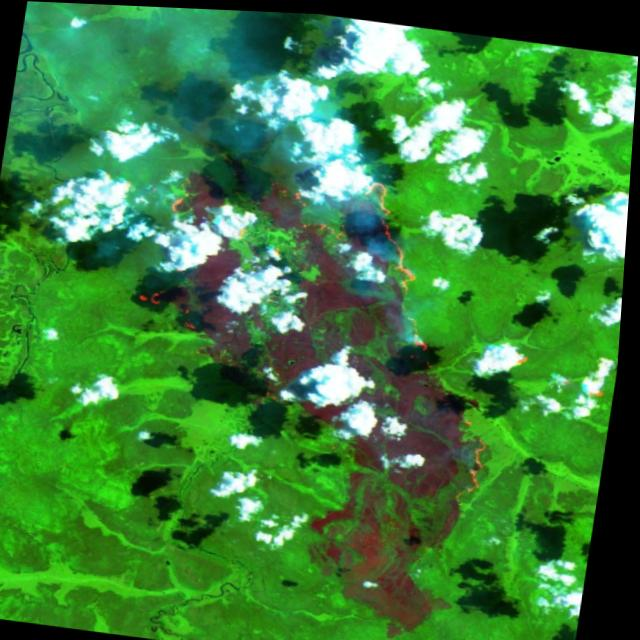fire: (356, 236, 457, 409), (256, 145, 413, 252), (417, 397, 525, 534), (109, 274, 217, 348), (152, 160, 230, 229)
